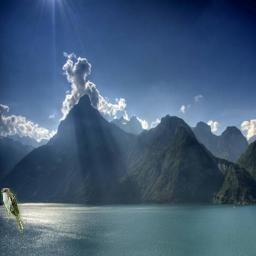Cuckoo: (1, 188, 23, 233)
